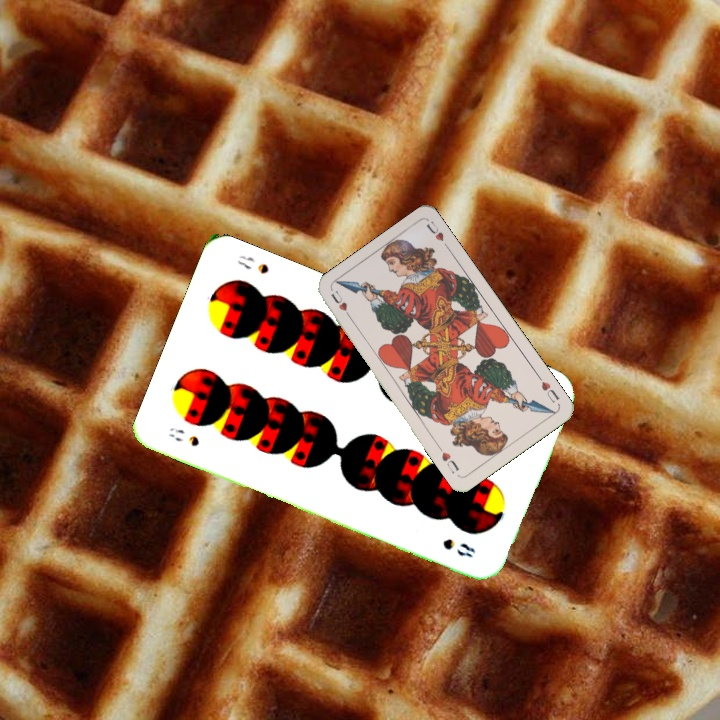HU: (327, 287, 355, 323), (534, 372, 562, 406)
S8: (165, 423, 202, 449)
